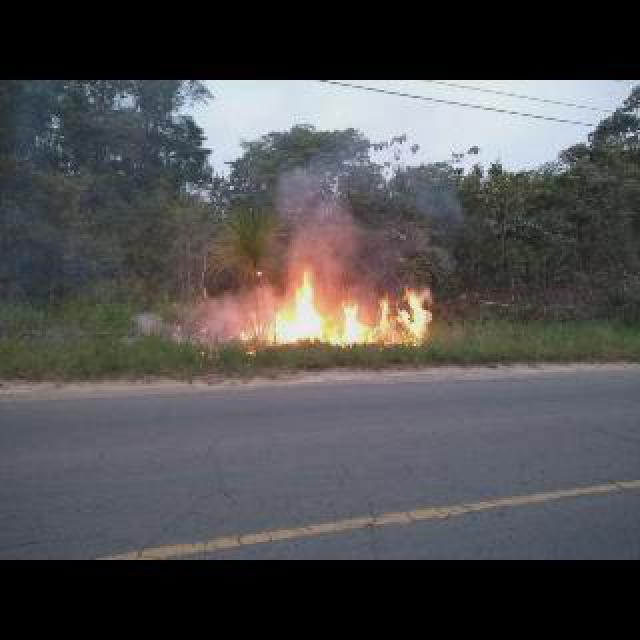Fire: (270, 260, 432, 350)
Smoke: (264, 140, 462, 286), (114, 284, 272, 358)
